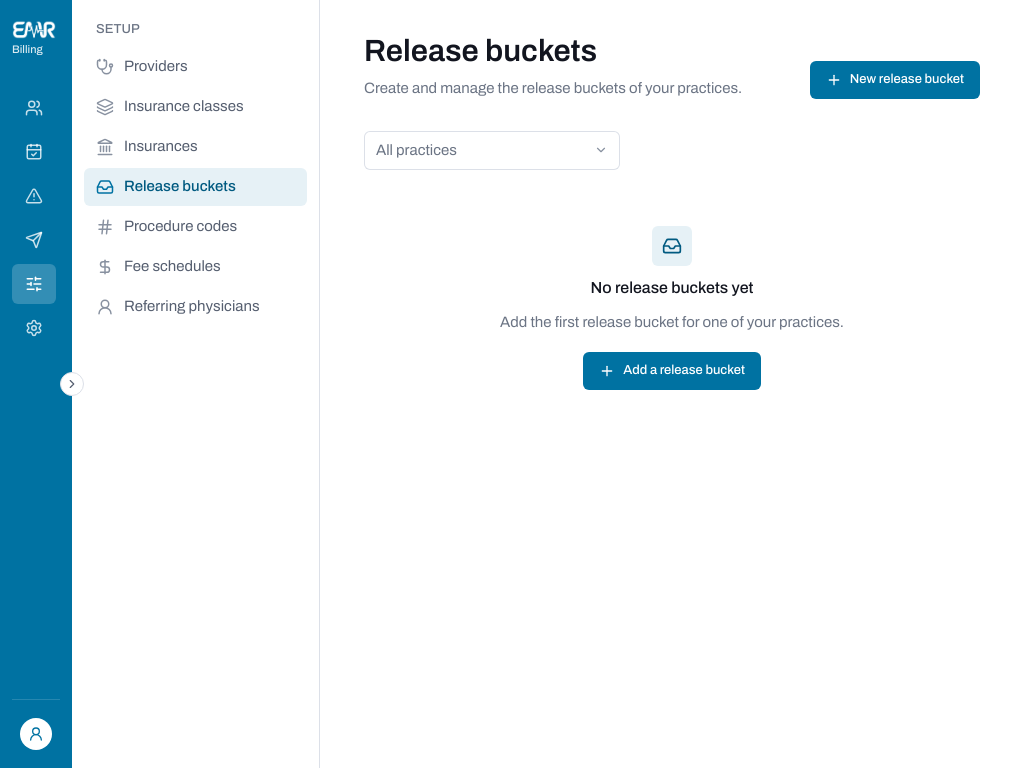
Test: Setup → Release buckets › explains an empty list and offers to add the first bucket
Check: the text "No release buckets yet" is shown, box [591,276,753,300]
What coordinates should you click on to do the following:
click the button "Add a release bucket"
I would click on:
 (672, 371)
Its box is [583,352,761,390].
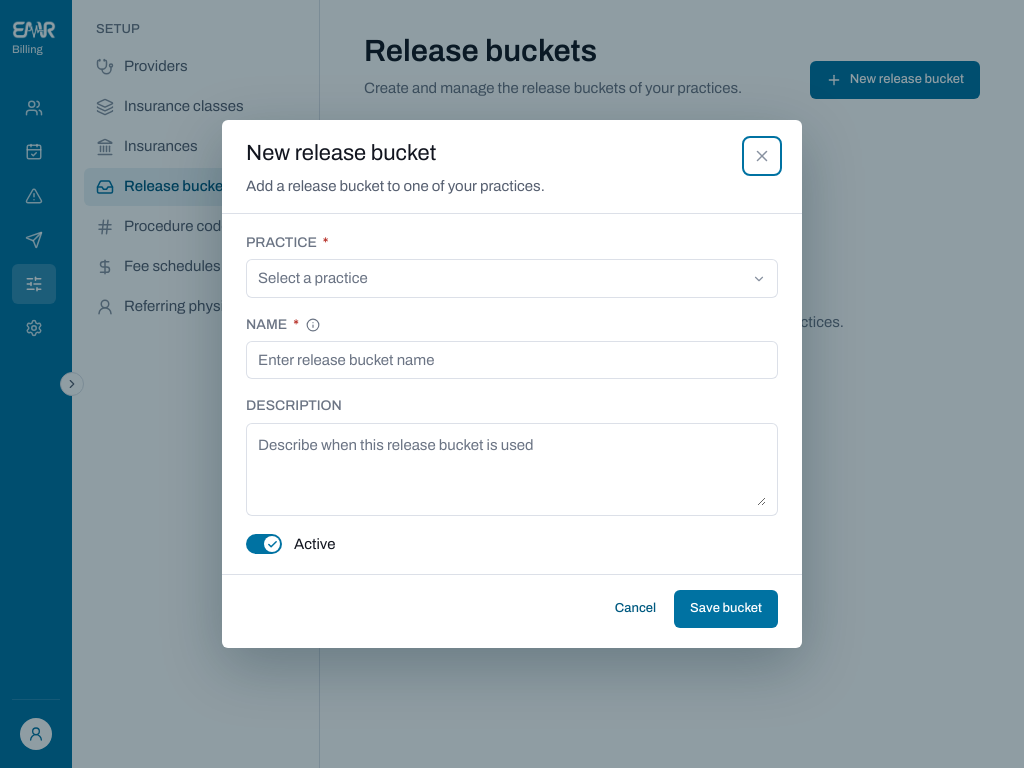
Check: the heading "New release bucket" is shown, box [246,141,436,165]
